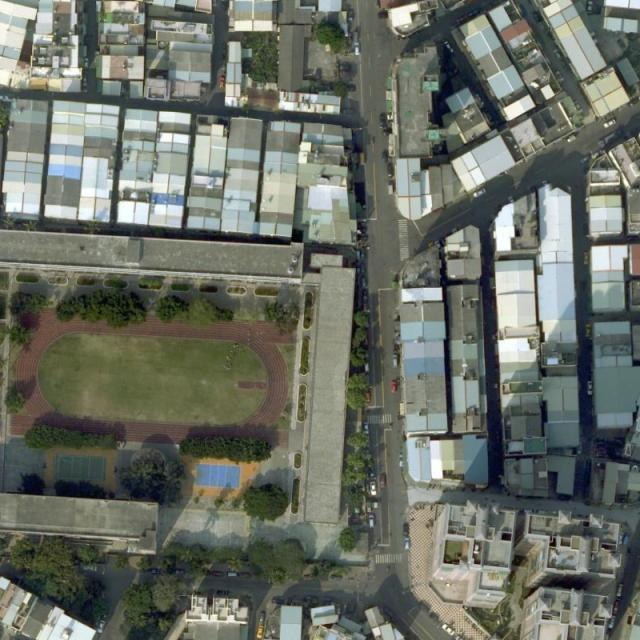vehicle: (441, 622, 456, 636), (602, 117, 617, 129), (382, 606, 395, 619), (473, 187, 487, 199), (625, 97, 640, 108), (270, 596, 286, 606), (579, 154, 592, 166), (608, 614, 618, 629), (369, 480, 378, 496), (613, 598, 622, 614), (554, 70, 566, 82), (97, 620, 106, 636), (532, 10, 543, 23), (622, 532, 632, 546), (386, 163, 395, 178), (148, 567, 163, 576), (574, 101, 584, 114), (593, 439, 609, 447), (327, 574, 343, 582), (585, 322, 593, 338), (258, 612, 267, 626), (402, 523, 410, 538), (382, 126, 394, 136), (565, 134, 577, 144), (616, 584, 625, 597), (587, 380, 594, 396), (83, 565, 98, 572), (390, 380, 398, 393), (257, 626, 265, 639), (379, 114, 386, 128), (354, 41, 361, 55), (554, 48, 562, 60), (445, 41, 453, 53), (587, 1, 594, 14), (392, 353, 398, 368), (388, 181, 394, 196), (582, 486, 590, 497), (368, 515, 374, 529), (405, 537, 411, 551), (315, 69, 322, 81), (83, 74, 89, 88), (361, 263, 367, 276), (593, 452, 606, 458), (586, 458, 592, 471), (218, 76, 224, 89), (241, 571, 252, 578), (381, 473, 386, 488), (382, 150, 388, 162), (584, 252, 590, 264), (364, 422, 369, 436), (83, 58, 90, 68), (593, 446, 607, 451), (361, 278, 367, 289), (213, 571, 224, 577), (349, 10, 354, 22), (338, 66, 350, 71), (228, 571, 238, 576)
